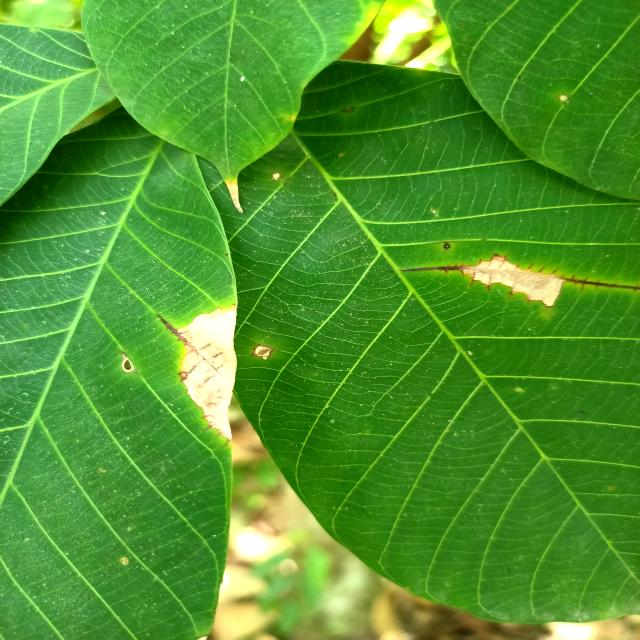Colletotrichum: (443, 243, 451, 250)
Corynespora: (560, 274, 640, 292), (156, 313, 189, 344), (400, 262, 466, 276)
Leaf-Blight: (178, 308, 240, 440), (464, 254, 564, 308), (224, 180, 244, 213)
